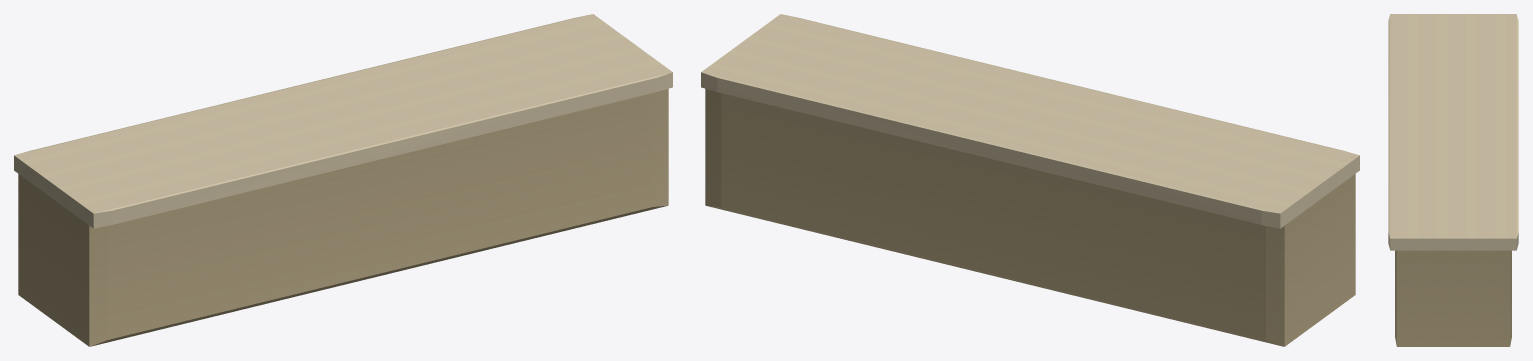
Rendered from SM_WC_BoardEdge.fbx.
3 renders of one model, left to right at view 1: azimuth 30°, elevation 25°; view 2: azimuth 150°, elevation 25°; view 3: azimuth 270°, elevation 25°, orthographic. The views are drawn at different scales.
Parts seen in each view (by area): view 1: SM_WC_BoardEdge; view 2: SM_WC_BoardEdge; view 3: SM_WC_BoardEdge.
Boxes of the visible parts, box(x1,y1,x2,y2) form: SM_WC_BoardEdge: box(14, 14, 672, 346); SM_WC_BoardEdge: box(701, 14, 1359, 346); SM_WC_BoardEdge: box(1388, 14, 1518, 346).
Size of the model in its own units: 2 by 0.49 by 0.45.
